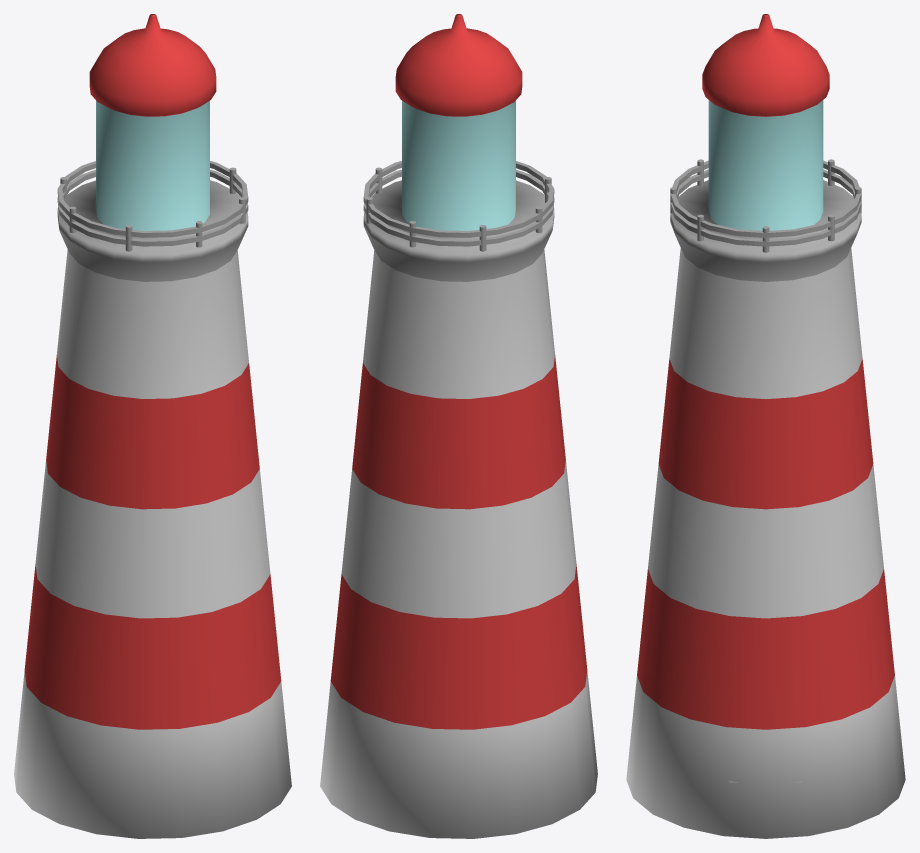
Rendered from Vuurtoren.fbx.
The picture shows the model from 3 angles, left to right: view 1: azimuth 30°, elevation 25°; view 2: azimuth 150°, elevation 25°; view 3: azimuth 270°, elevation 25°; orthographic projection.
Parts seen in each view (by area): view 1: Vuurtoren; view 2: Vuurtoren; view 3: Vuurtoren.
Boxes of the visible parts, x1,y1,x2,y2 form: Vuurtoren: (14,14,291,838); Vuurtoren: (320,14,597,838); Vuurtoren: (626,14,905,838).
Bounding box in the file's own units: 0.6593 × 1.99 × 0.6593.
